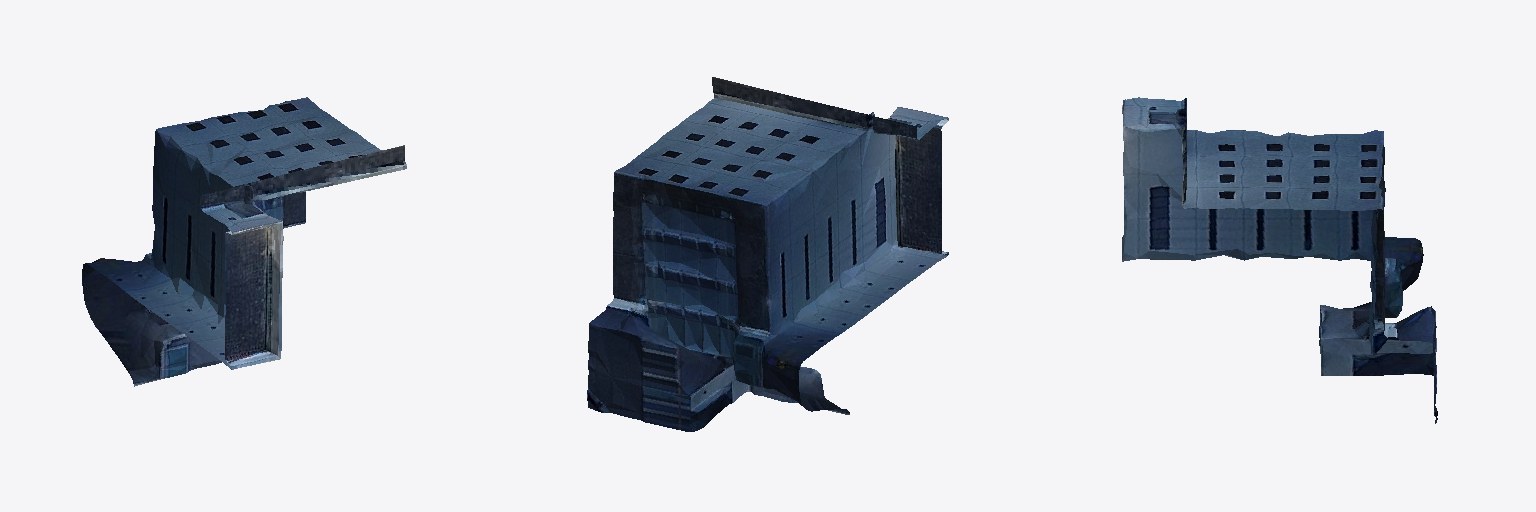
3 views of the same model, side by side, from view 1: azimuth 30°, elevation 25°; view 2: azimuth 150°, elevation 25°; view 3: azimuth 270°, elevation 25° (orthographic).
Visible parts, largest first — view 1: obj_0; view 2: obj_0; view 3: obj_0.
Boxes of the visible parts, x1=… form: obj_0: x1=82, y1=97, x2=406, y2=386; obj_0: x1=587, y1=77, x2=948, y2=431; obj_0: x1=1122, y1=97, x2=1437, y2=423.
Size of the model in its own units: 20.08 by 22.53 by 26.82.
1 materials, 1 textured.